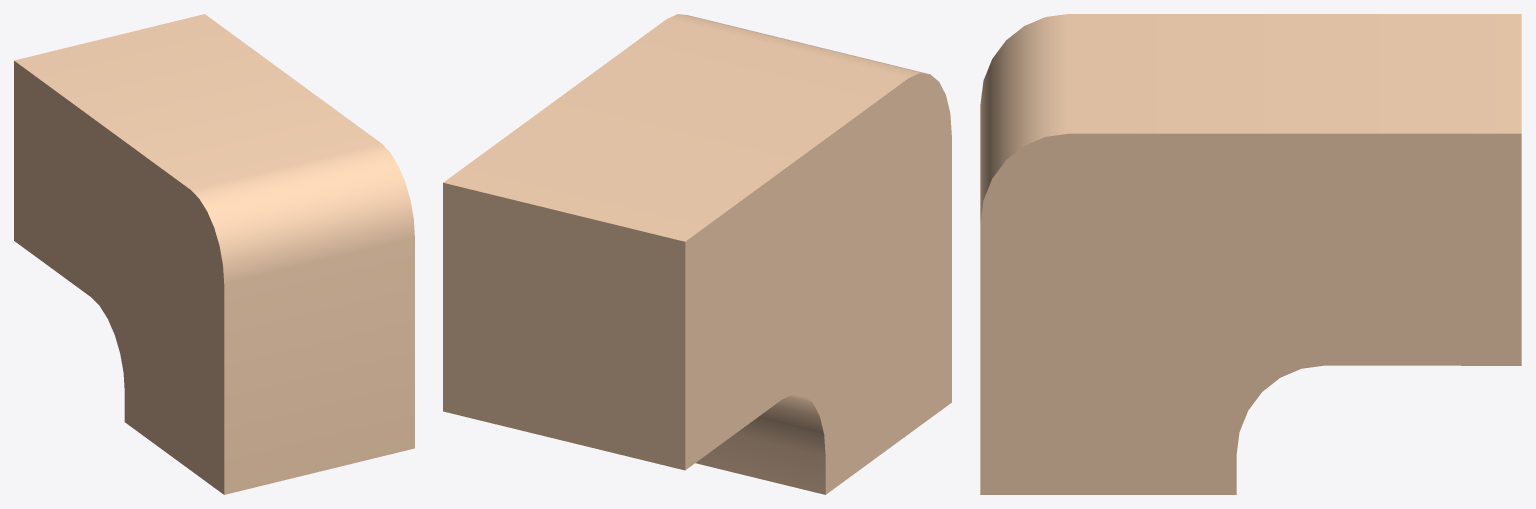
Rendered from Link Block Sand L Type.fbx.
3 renders of one model, left to right at view 1: azimuth 30°, elevation 25°; view 2: azimuth 150°, elevation 25°; view 3: azimuth 270°, elevation 25°, orthographic. The views are drawn at different scales.
Visible parts, largest first — view 1: Link Block Sand L Type; view 2: Link Block Sand L Type; view 3: Link Block Sand L Type.
Part boxes in pixels (box(x1,y1,x2,y2)): Link Block Sand L Type: box(14, 14, 414, 494); Link Block Sand L Type: box(443, 14, 951, 494); Link Block Sand L Type: box(980, 14, 1521, 494).
Bounding box in the file's own units: 100 × 141 × 191.
